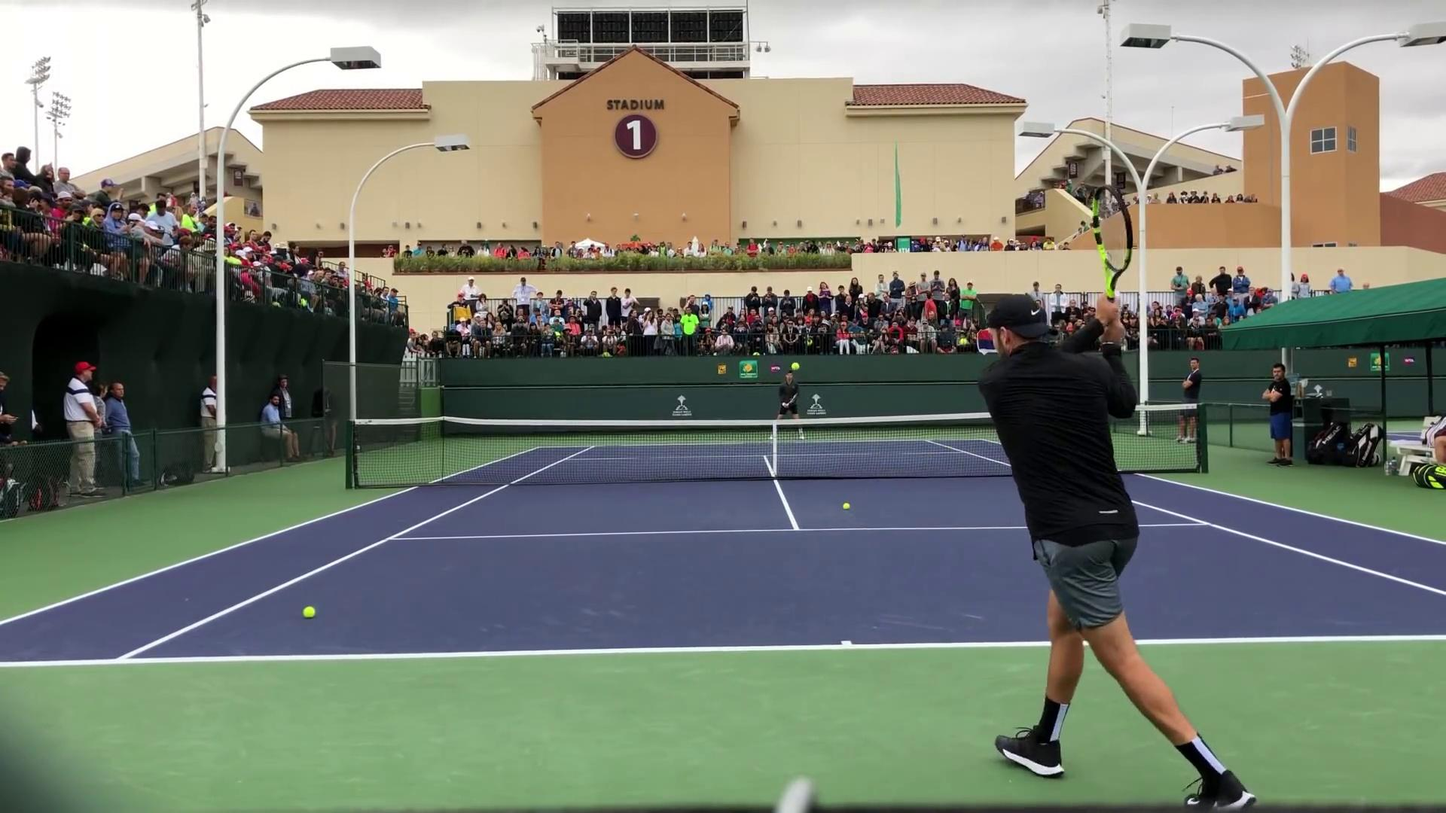ball: (303, 604, 316, 618), (842, 502, 852, 511), (791, 361, 800, 370), (983, 413, 986, 416)
